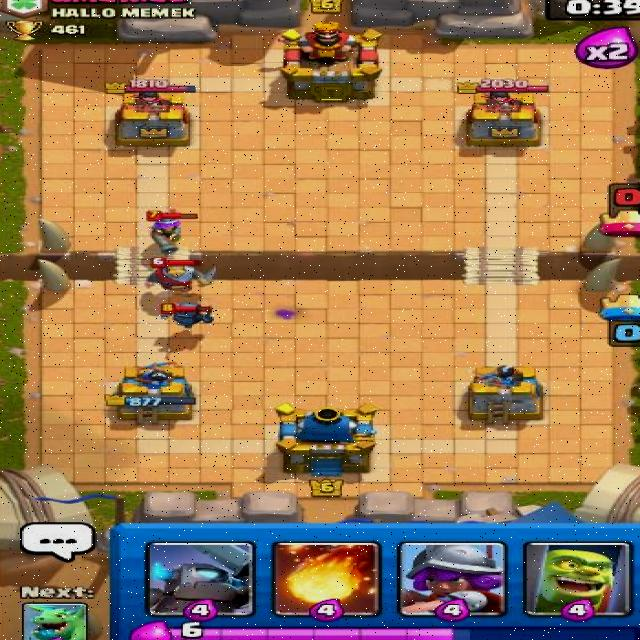Enemy-Knight: (143, 256, 220, 297)
Enemy-MiniPEKKA: (159, 302, 218, 332)
Enemy-Musketeer: (143, 209, 201, 257)
